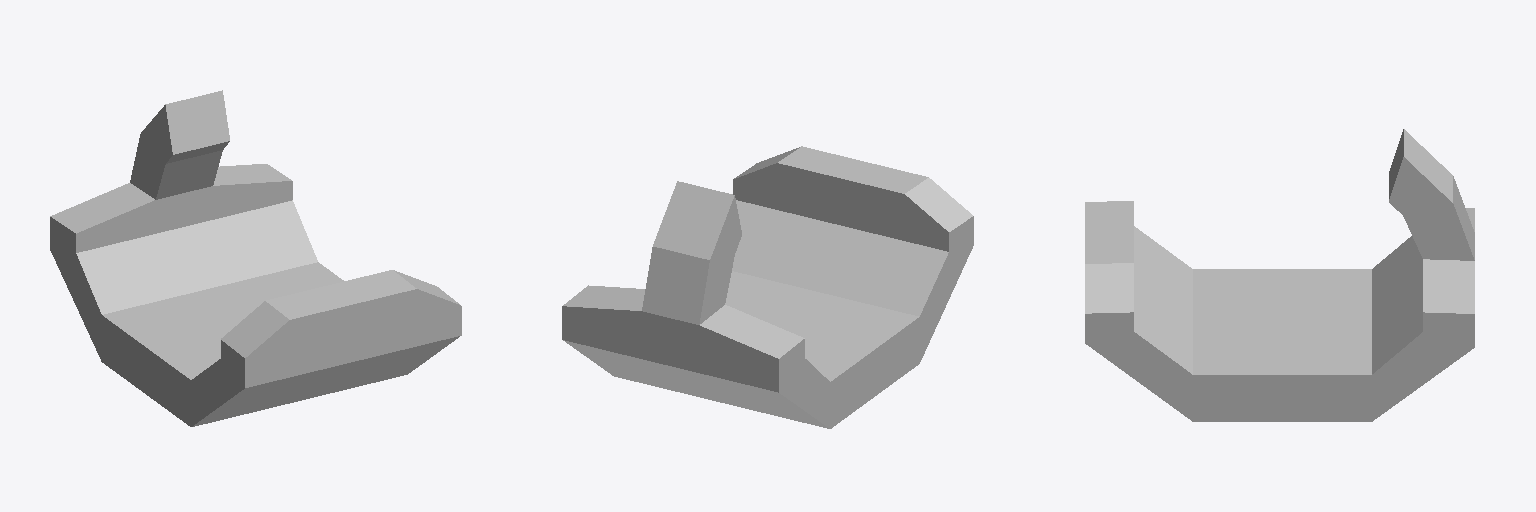
File: Catwalk6.obj
The picture shows the model from 3 angles: view 1: azimuth 30°, elevation 25°; view 2: azimuth 150°, elevation 25°; view 3: azimuth 270°, elevation 25°; orthographic projection.
Parts seen in each view (by area): view 1: Catwalk6; view 2: Catwalk6; view 3: Catwalk6.
Boxes of the visible parts, box(x1,y1,x2,y2) form: Catwalk6: box(50, 90, 461, 426); Catwalk6: box(562, 146, 973, 428); Catwalk6: box(1085, 129, 1474, 421).
Bounding box in the file's own units: 6.35 × 6.35 × 9.89.